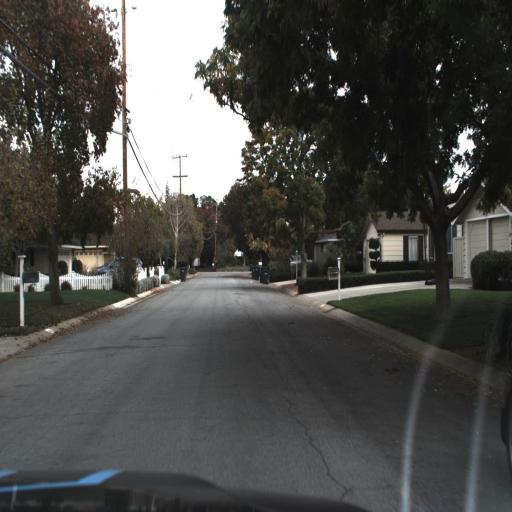car: (94, 254, 149, 284)
